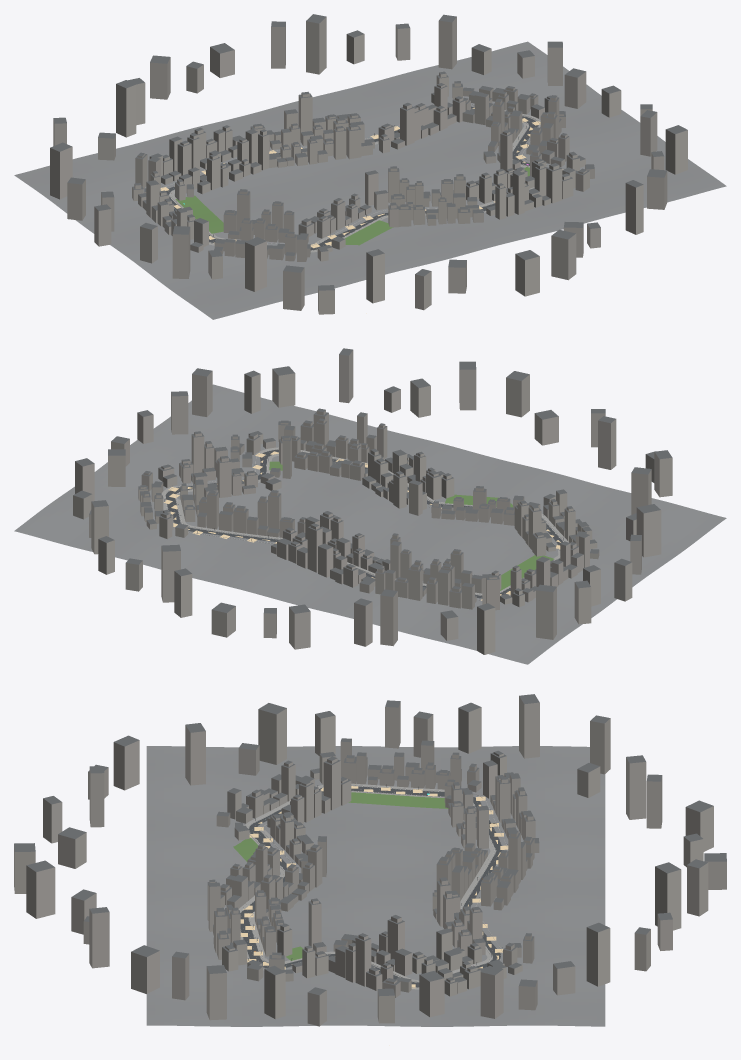
File: crosstown_sprint.glb
3 views of the same model, one above another, from view 1: azimuth 30°, elevation 25°; view 2: azimuth 150°, elevation 25°; view 3: azimuth 270°, elevation 25° (orthographic). The views are drawn at different scales.
Visible parts, largest first — view 1: crosstown_sprint - City; view 2: crosstown_sprint - City; view 3: crosstown_sprint - City.
Boxes of the visible parts, x1,y1,x2,y2 form: crosstown_sprint - City: (14, 14, 726, 319); crosstown_sprint - City: (14, 348, 726, 664); crosstown_sprint - City: (14, 694, 726, 1026).
Size of the model in its own units: 1613 by 554 by 1647.
